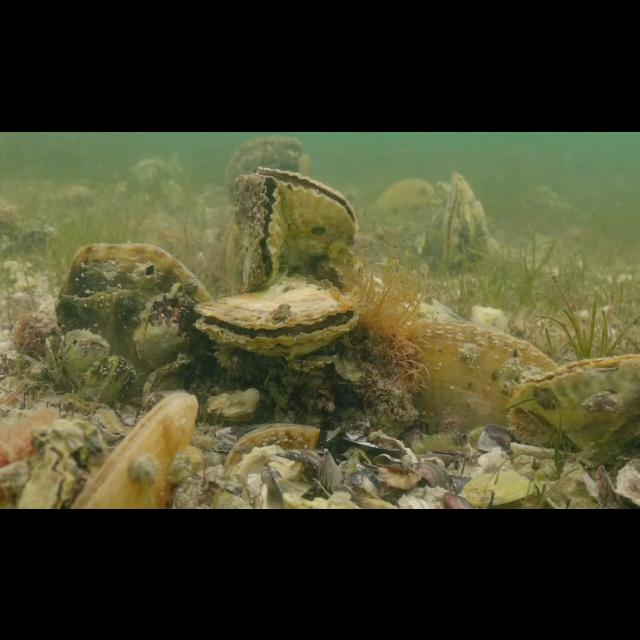Oyster-Closed: (54, 238, 216, 374), (401, 316, 563, 446), (64, 387, 200, 509), (504, 352, 640, 454), (434, 172, 492, 274), (224, 418, 322, 474), (80, 353, 138, 407), (144, 353, 196, 399)
Oyster-Open: (192, 276, 364, 360), (254, 164, 360, 270), (231, 172, 289, 290), (16, 437, 74, 509), (61, 326, 111, 384)
